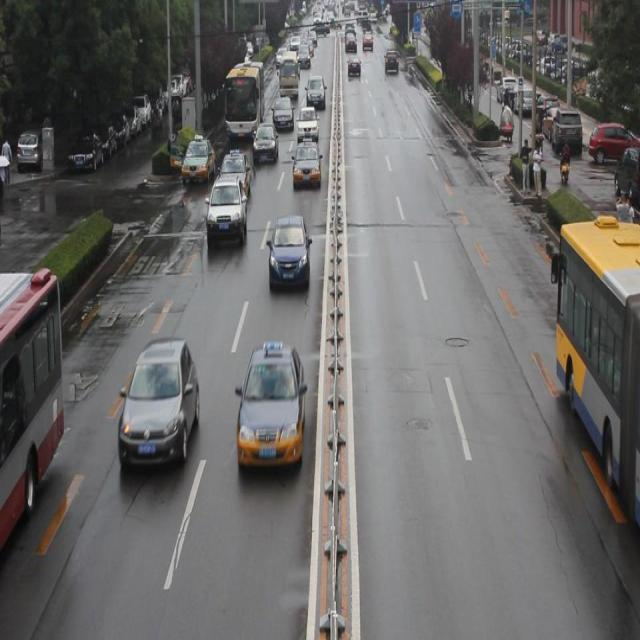car: (118, 339, 199, 468), (236, 342, 305, 476), (205, 175, 247, 246), (269, 215, 307, 292), (217, 150, 250, 206), (183, 134, 216, 184), (292, 138, 320, 188), (252, 121, 278, 168), (272, 96, 294, 134), (297, 104, 319, 141)
van: (550, 208, 640, 525), (1, 268, 66, 544), (225, 60, 264, 140)
